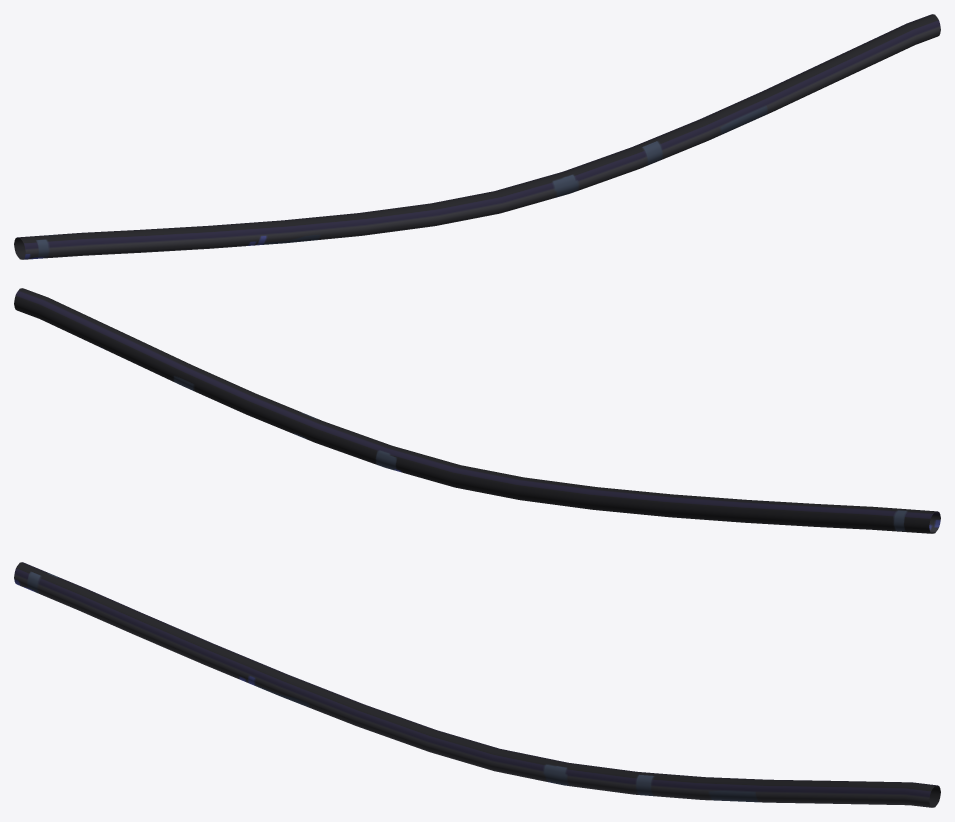
Rendered from SM_Wire_Small_ling.fbx.
3 renders of one model, top to bottom at view 1: azimuth 30°, elevation 25°; view 2: azimuth 150°, elevation 25°; view 3: azimuth 330°, elevation 25°, orthographic.
Visible parts, largest first — view 1: Sm_Wire_Small_Ling; view 2: Sm_Wire_Small_Ling; view 3: Sm_Wire_Small_Ling.
Boxes of the visible parts, x1,y1,x2,y2 form: Sm_Wire_Small_Ling: [14, 14, 940, 259]; Sm_Wire_Small_Ling: [14, 288, 940, 533]; Sm_Wire_Small_Ling: [14, 562, 940, 807].
Bounding box in the file's own units: 1.97 × 0.4605 × 20.56.
Materials: 1 (1 with a texture image).
